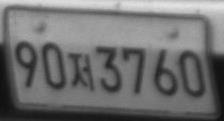0: (179, 49, 205, 97), (40, 41, 65, 90)
3: (95, 45, 122, 92)
6: (153, 48, 178, 96)
7: (123, 47, 147, 93)
9: (14, 39, 38, 87)
저: (68, 52, 94, 91)
